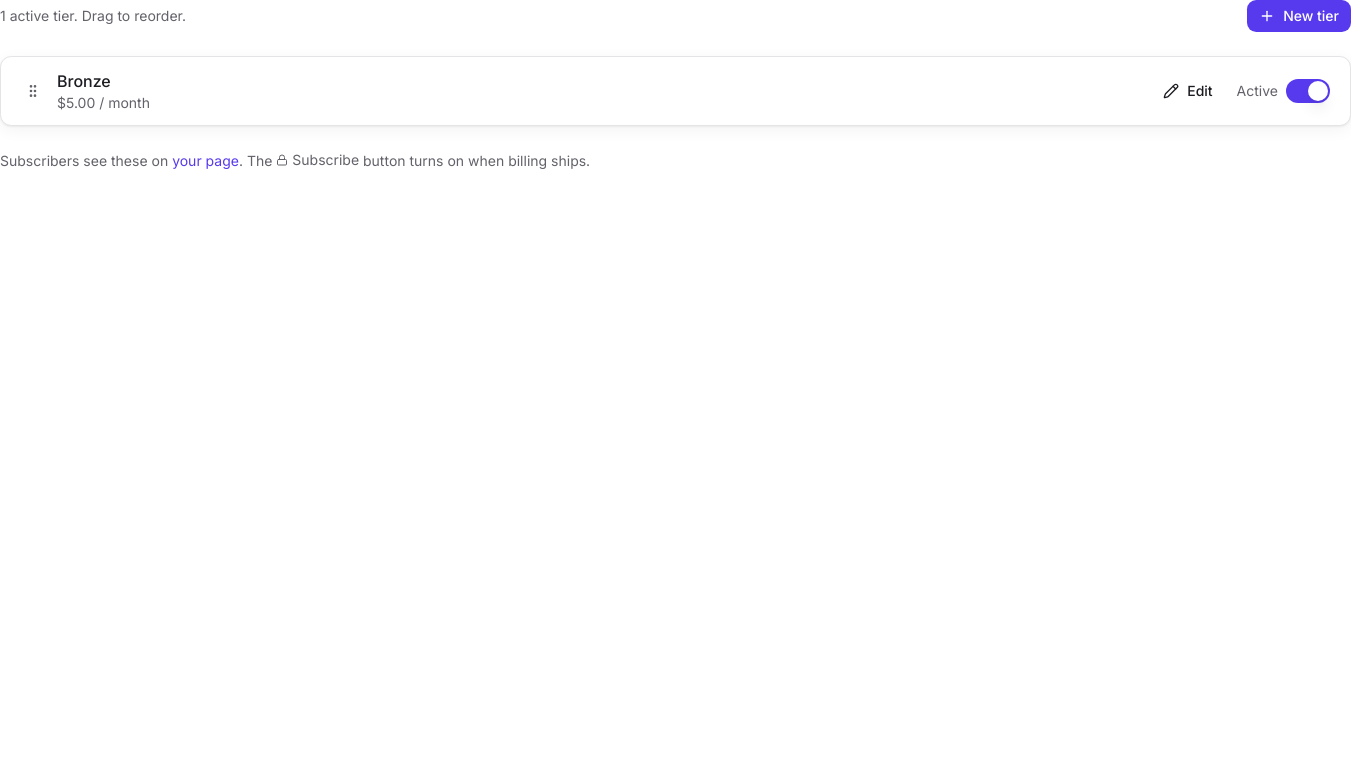
Scenario: TierManager › creates a tier: POSTs the parsed body and renders the new row
Click the button "New tier". click: point(1299, 16)
box: [1247,0,1351,32]
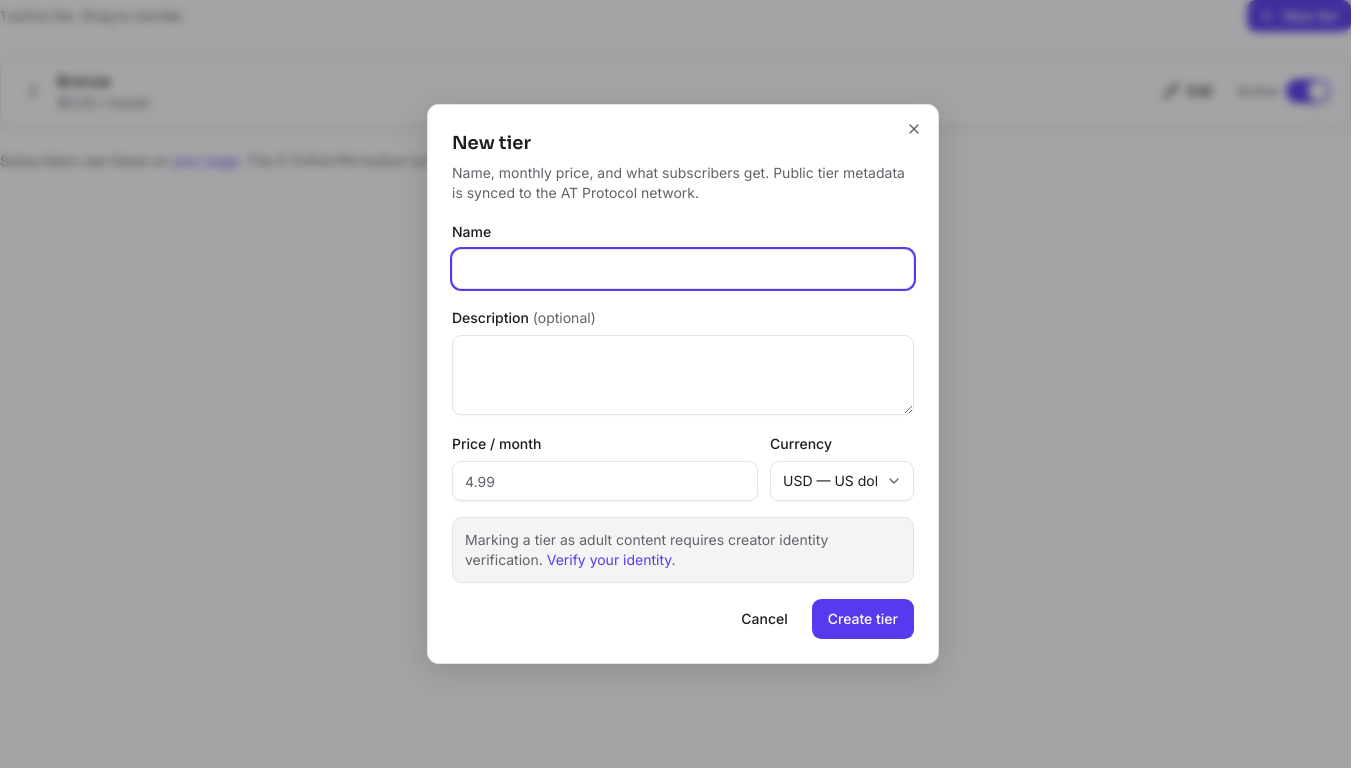
Type "Gold" into the field labelled "Name". click: point(683, 269)
box: [452,249,914,289]
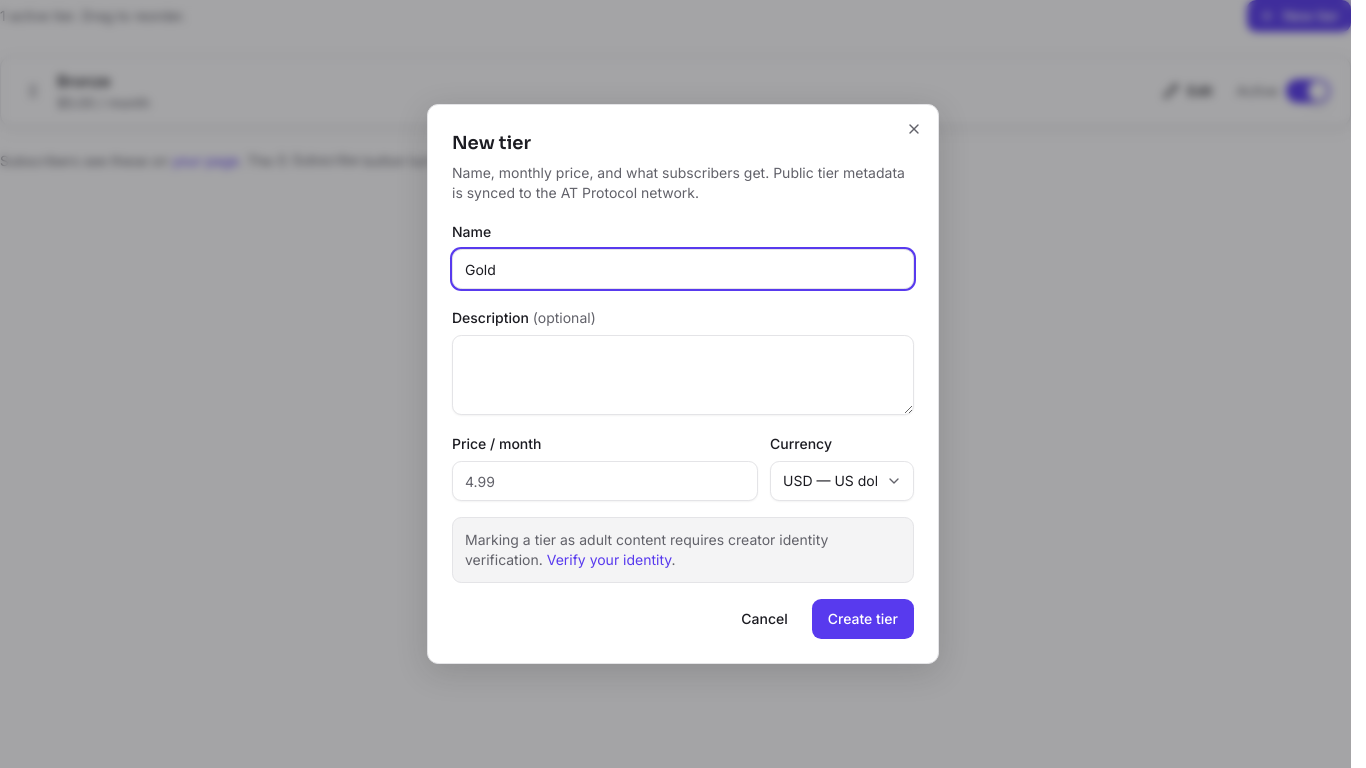
Type "9.99" into the field labelled "Price / month". click: point(605, 481)
box: [452,461,758,501]
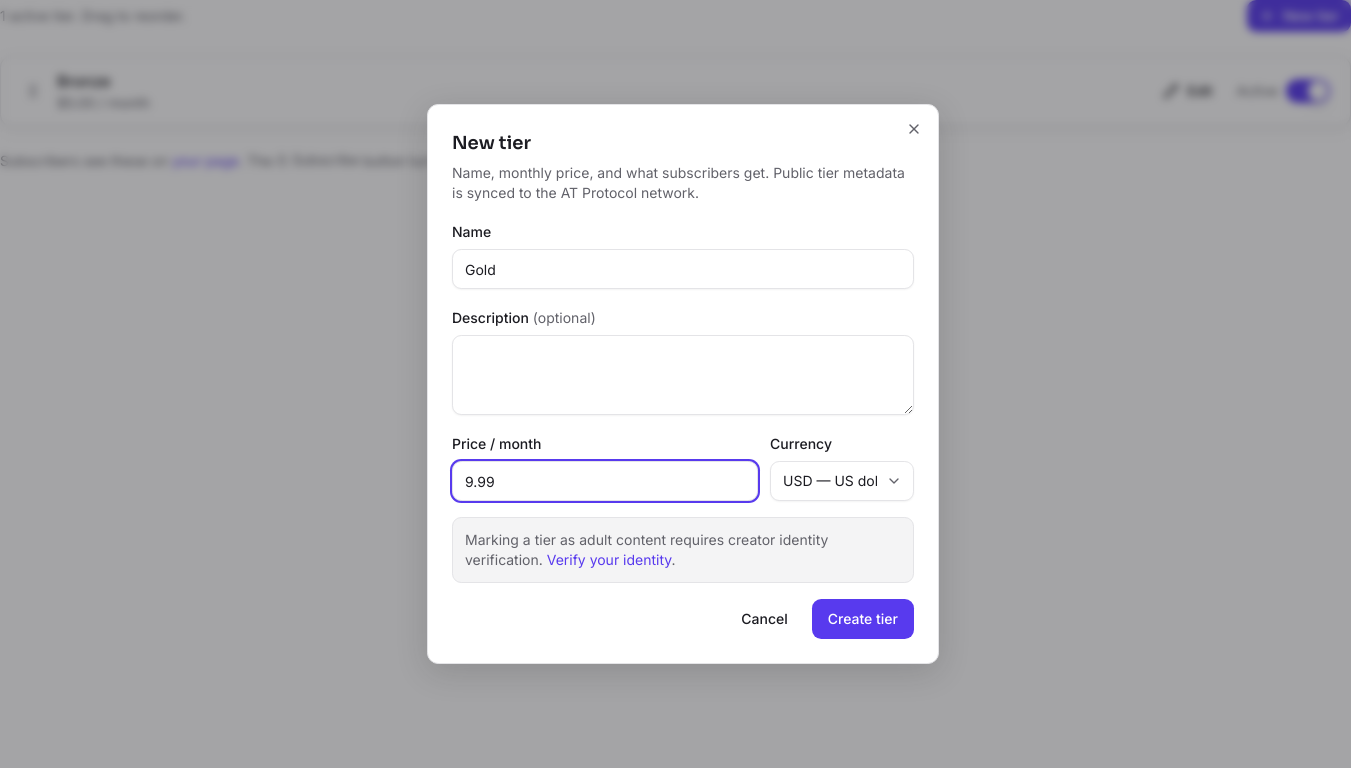
Click the button "Create tier". click: point(863, 619)
box: [812,599,914,639]
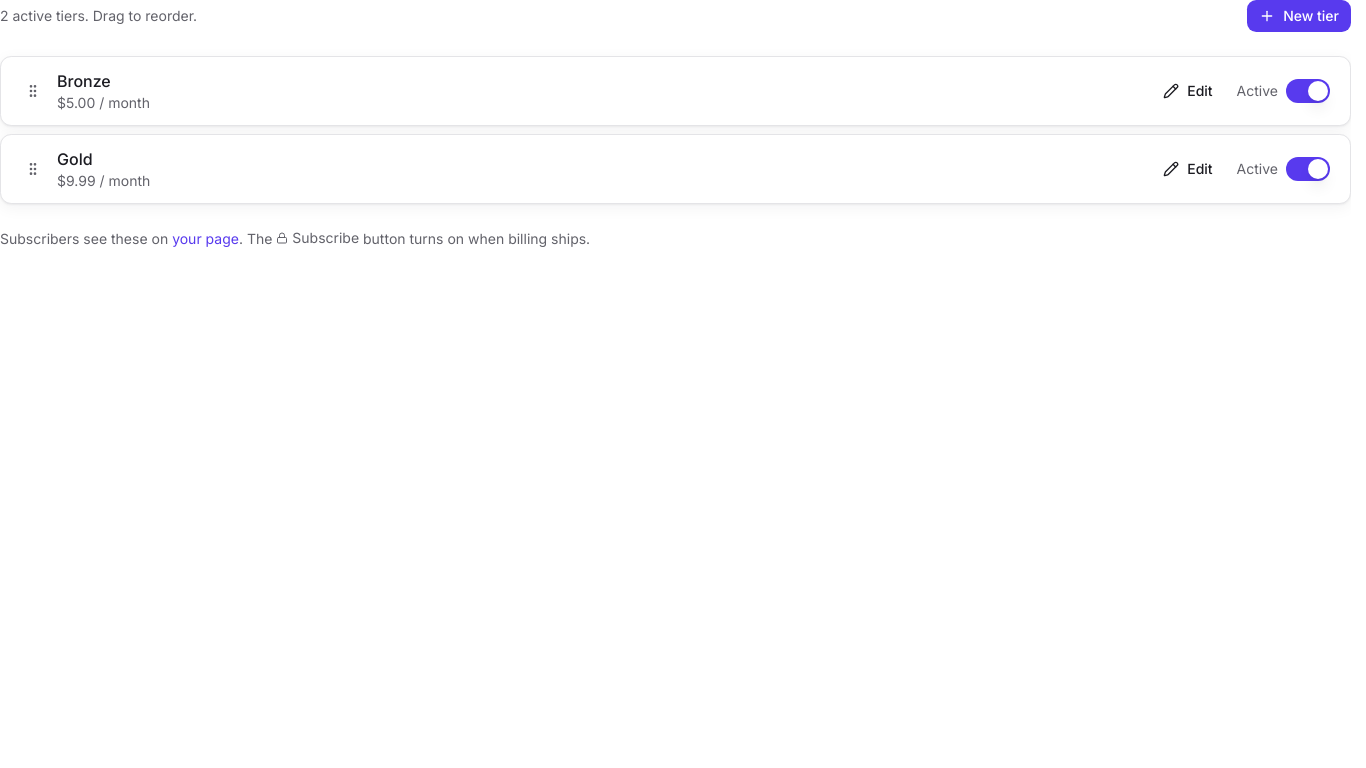
Check: the text "Gold" is shown, box [57,149,92,169]
